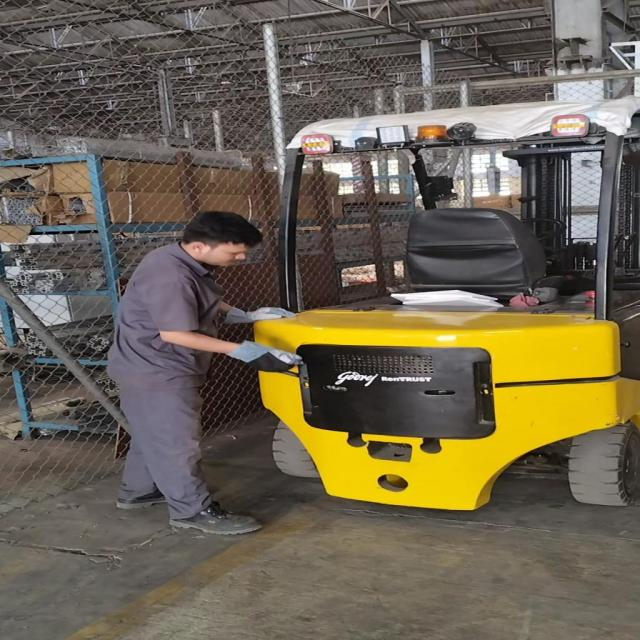Gloves-Detection: (230, 336, 296, 383), (222, 305, 288, 328)
